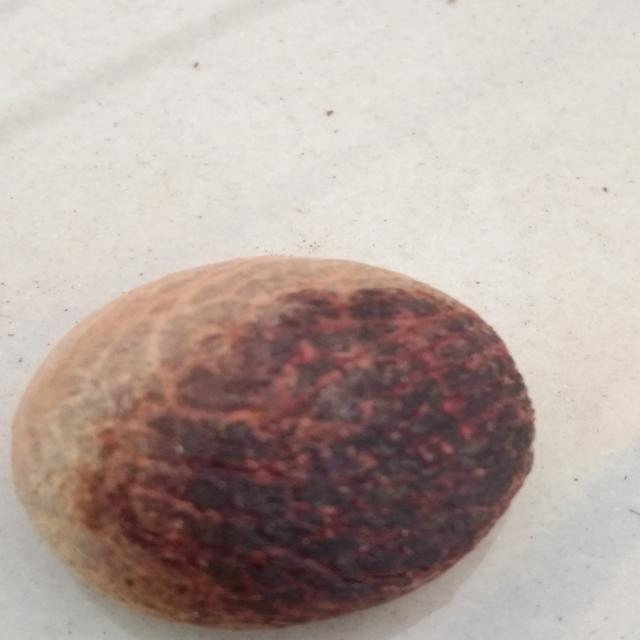karigot: (1, 250, 580, 640)
